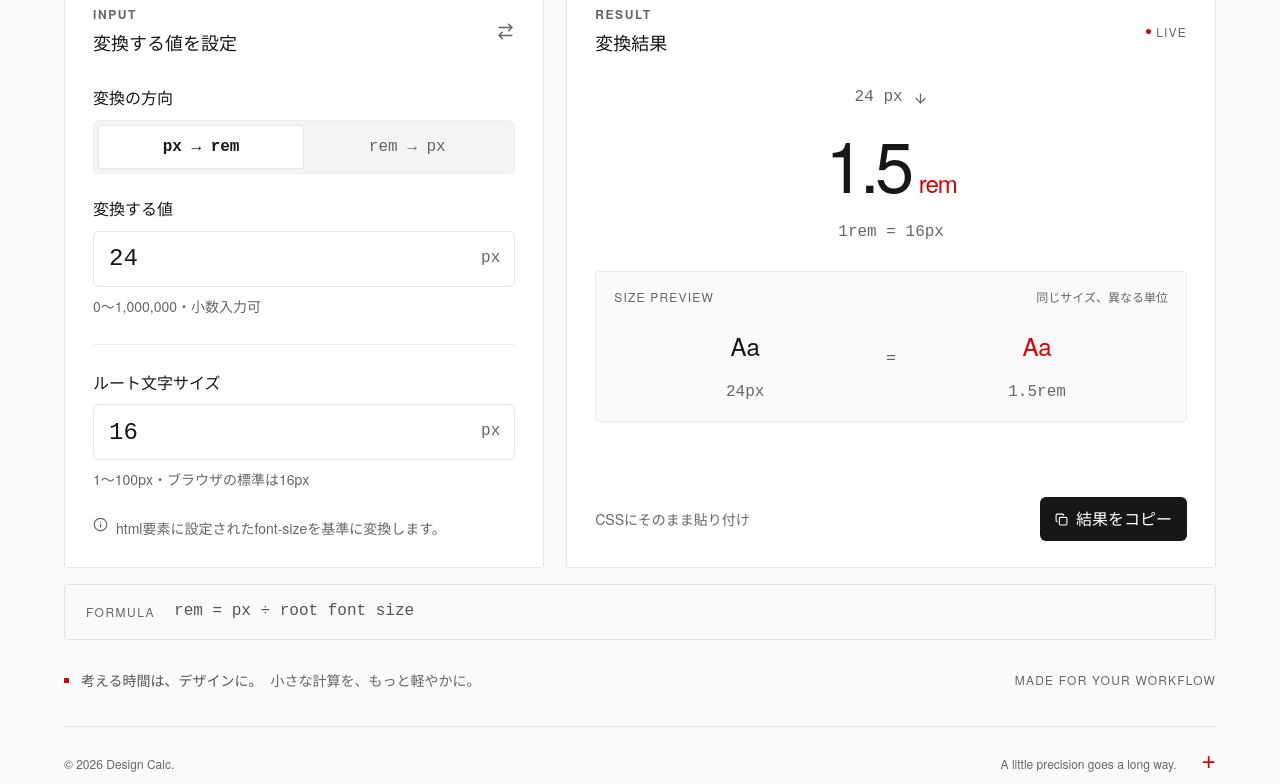
Test case: calculator workflows › updates conversion live and prevents invalid copies
(page scrolled)
Expected: the element named "変換結果" reads "1.5rem", [826,112,957,213]
Replace the text in the field labelled "ルート文字サイズ" with "20" at [304, 432], box [93,404,515,460]
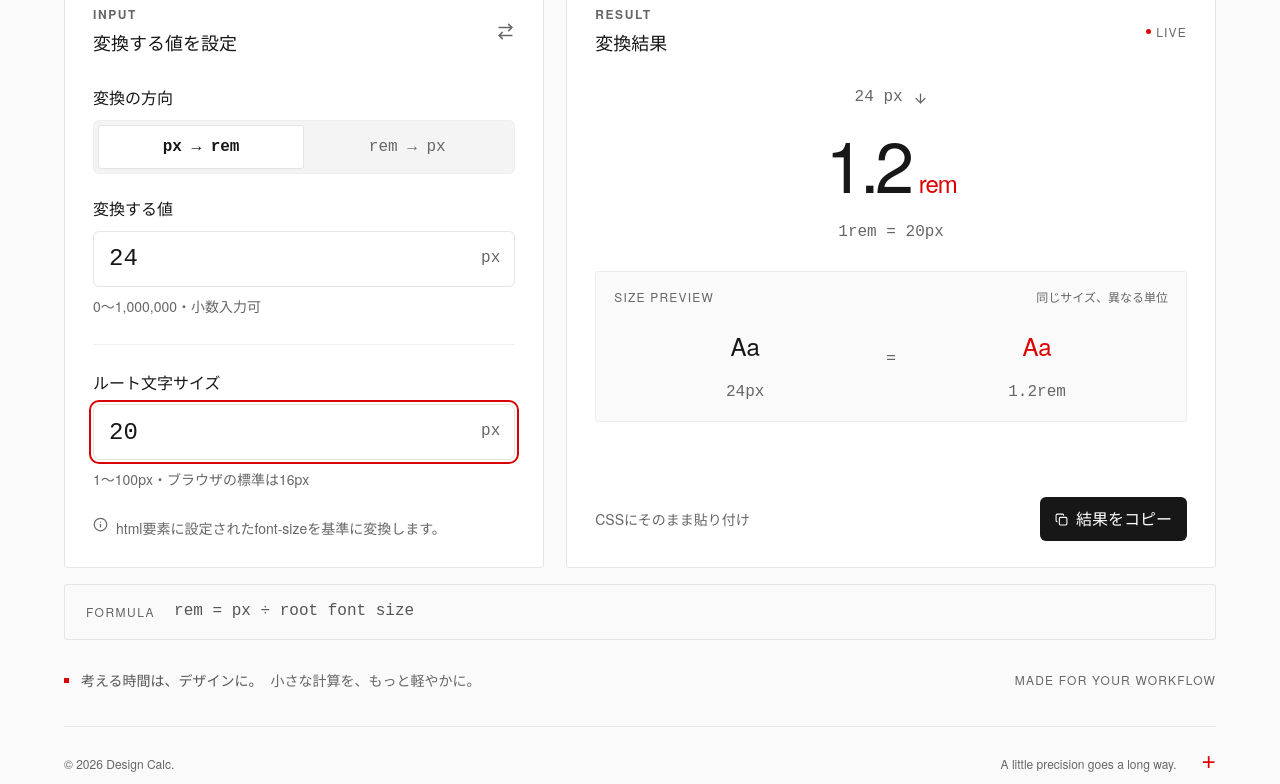
Result: the element named "変換結果" reads "1.2rem" at [826,112,957,213]
Clear the field labelled "変換する値" at [304, 259], box [93,231,515,287]
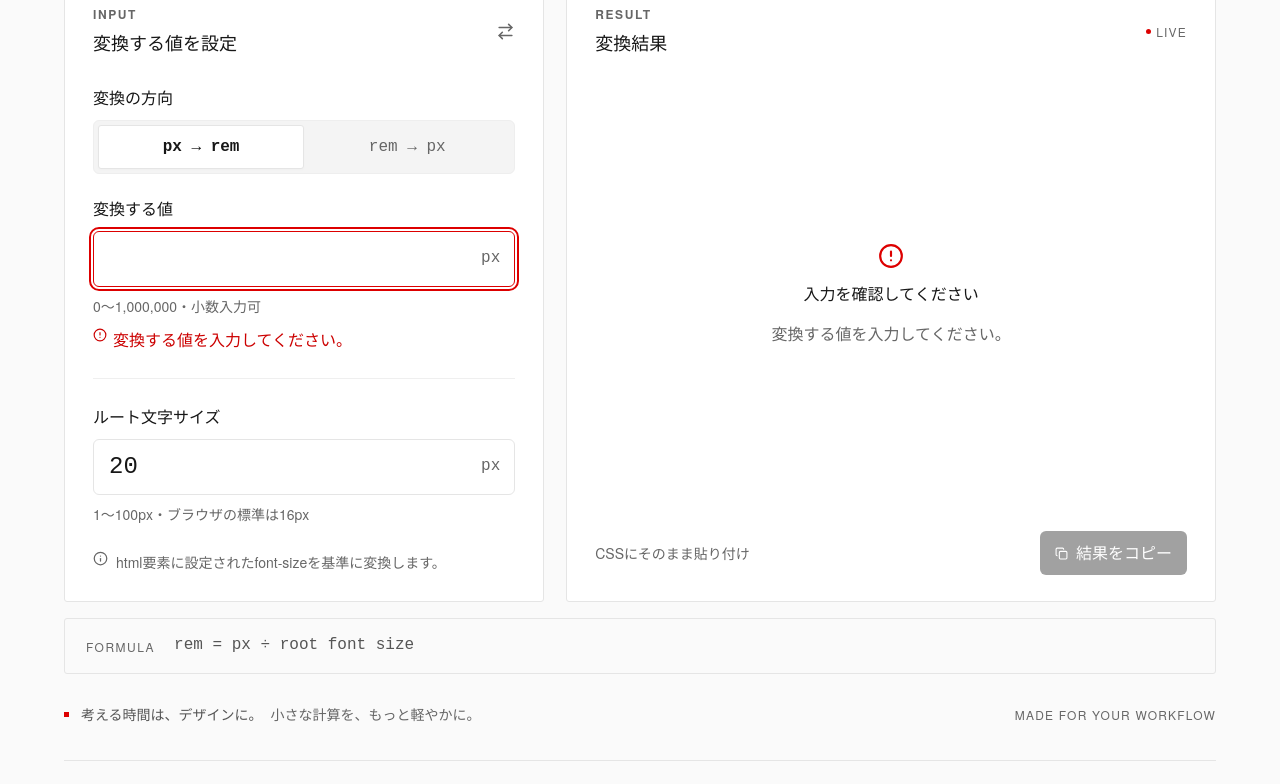
Result: the button "結果をコピー" is disabled at [1040,531,1187,575]
Result: the text "変換する値を入力してください。" is shown at [93,328,352,351]
